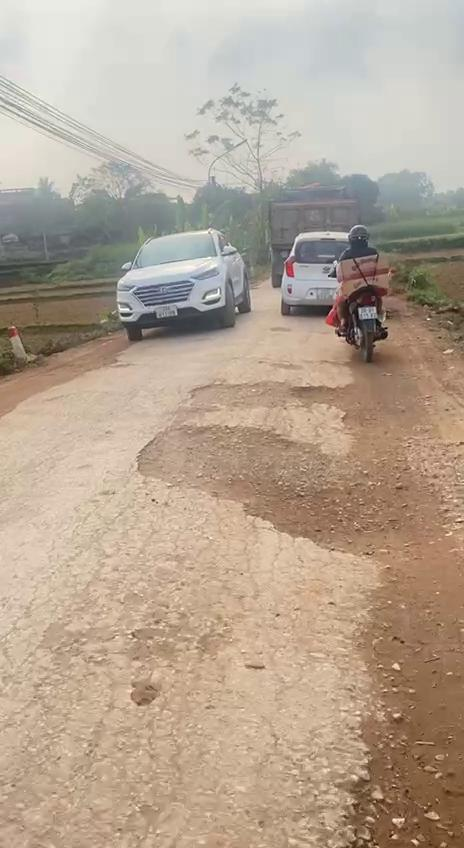pothole: (124, 416, 404, 570), (333, 697, 464, 848), (188, 376, 363, 426)
